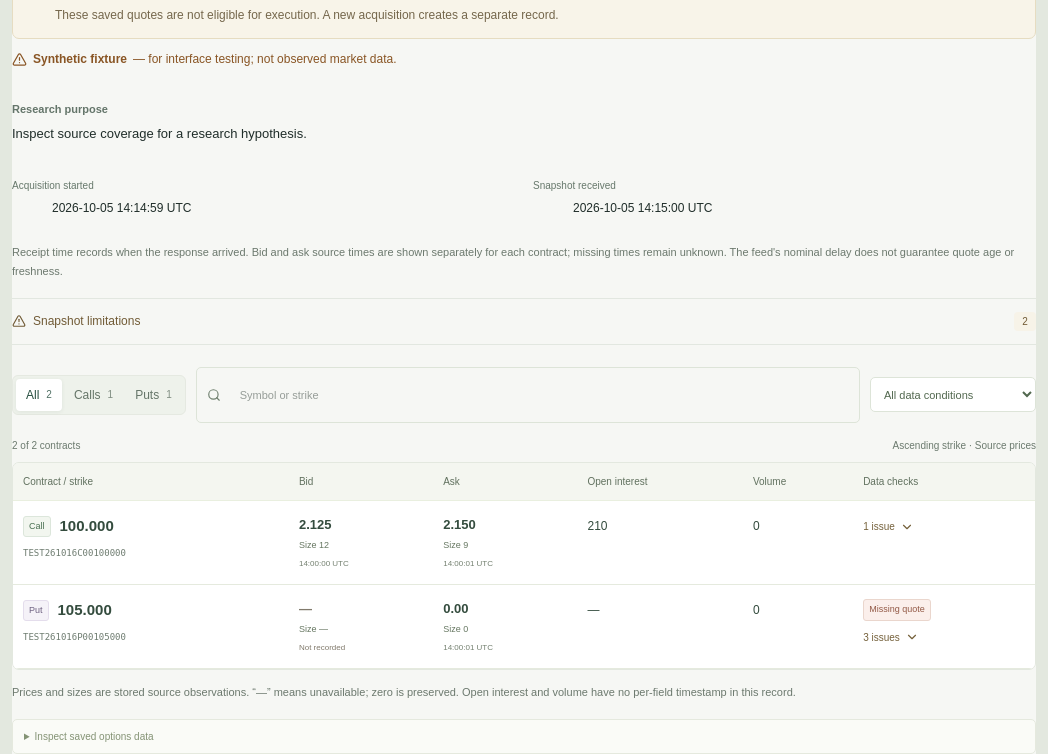
saved options-chain inspector › keeps bid and ask source times separate from acquisition and receipt
(page scrolled)
Expected: the text "2026-10-05 14:14:59 UTC" is shown, [52,201,191,215]
Expected: the text "2026-10-05 14:15:00 UTC" is shown, [573,201,712,215]
Click the button "3 issues" at [891, 637], box [863,626,919,648]
(page scrolled)
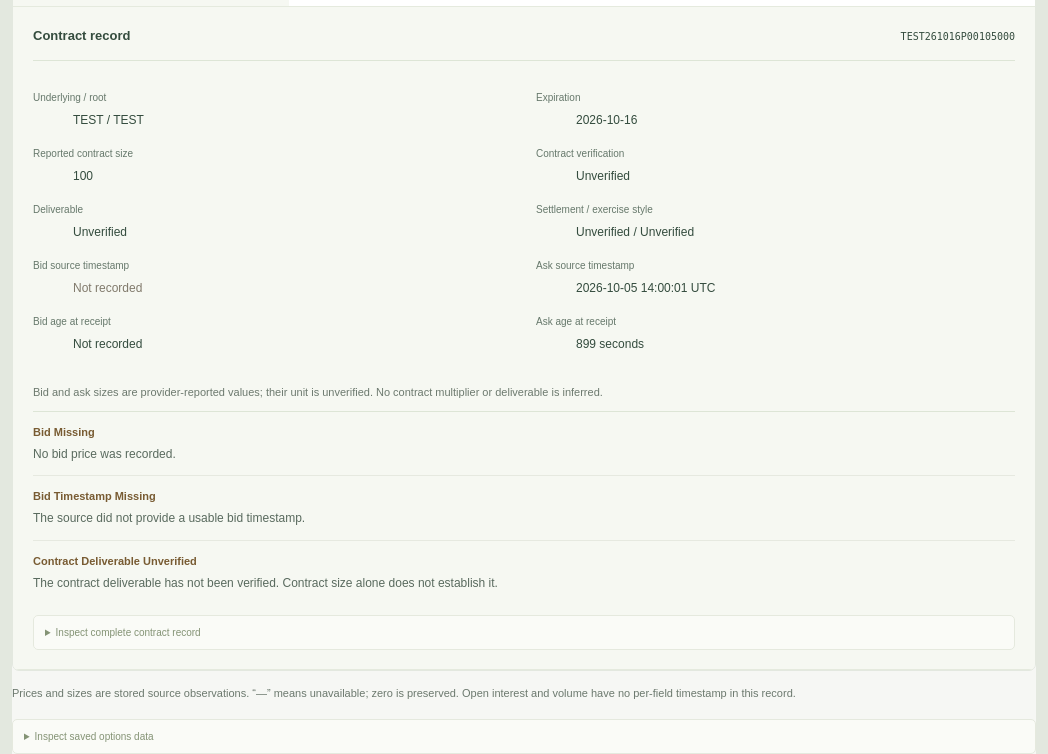
Expected: the text "Not recorded" below "Bid source timestamp" is shown, [73,281,142,295]
Expected: the text "No bid price was recorded." is shown, [33,447,176,461]
Expected: the text "unit is unverified" is shown, [33,386,603,398]
